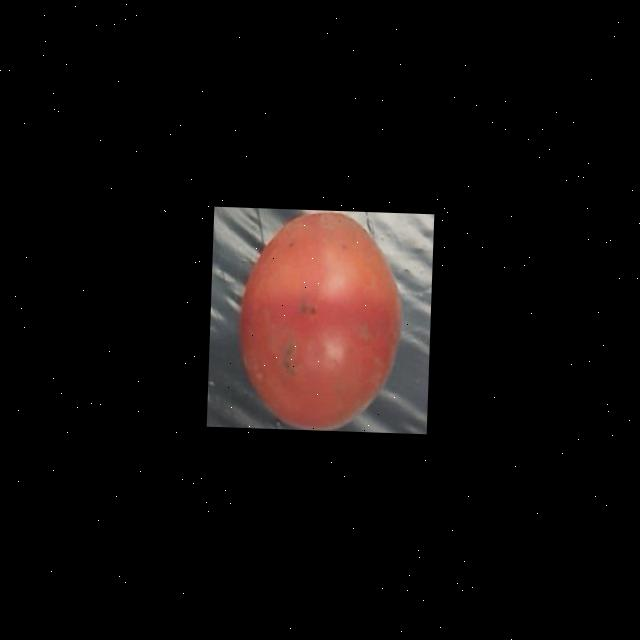tomato: (226, 207, 410, 431)
